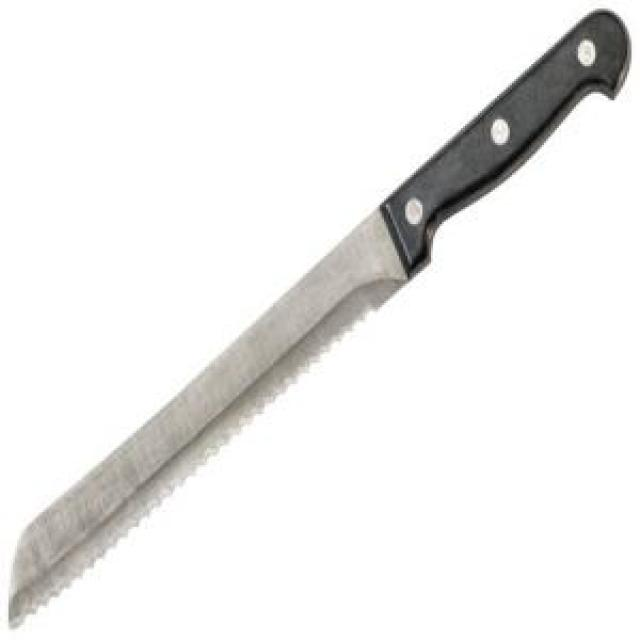knife: (4, 0, 630, 628)
